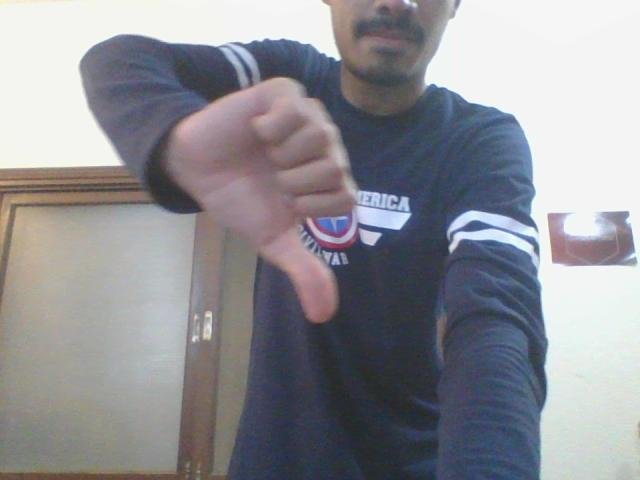thumbs-down: (209, 77, 362, 330)
